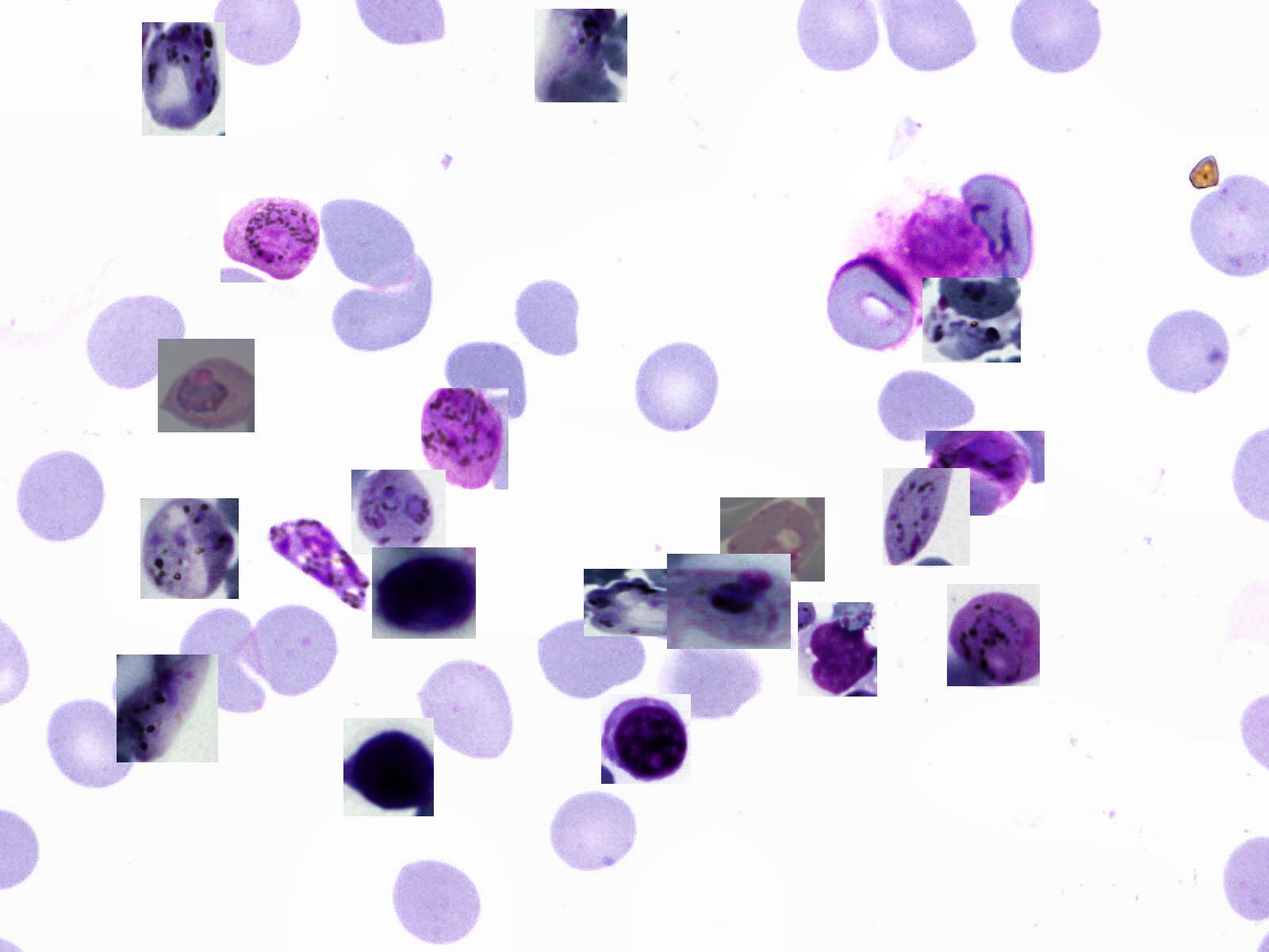Infected: (668, 555, 792, 650), (117, 654, 218, 762), (926, 431, 1045, 516), (140, 499, 239, 600), (267, 516, 373, 609), (372, 547, 476, 639), (947, 584, 1040, 686), (142, 22, 225, 136), (158, 339, 255, 432), (220, 192, 320, 282), (343, 718, 434, 816), (721, 497, 825, 582), (421, 388, 508, 489), (535, 9, 627, 102), (883, 468, 970, 566), (922, 278, 1021, 363), (584, 569, 709, 636), (601, 694, 691, 784), (351, 470, 446, 555), (798, 603, 877, 697)
Uninfected: (420, 654, 517, 766), (172, 601, 266, 715), (236, 601, 342, 700), (84, 293, 191, 390), (13, 443, 106, 546), (327, 262, 432, 351), (388, 851, 485, 947), (315, 198, 420, 286), (661, 637, 767, 723), (44, 696, 139, 791), (830, 251, 916, 355), (535, 620, 648, 699), (874, 367, 980, 447), (960, 174, 1034, 284), (547, 787, 641, 873), (635, 342, 720, 435), (1145, 310, 1228, 398), (446, 340, 527, 420), (515, 282, 581, 359)
